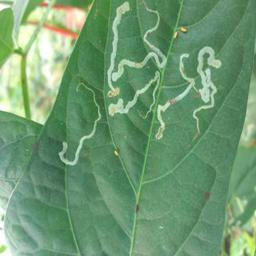liriomyza: (105, 1, 166, 120), (154, 45, 221, 143), (58, 81, 101, 167), (179, 25, 188, 33)
